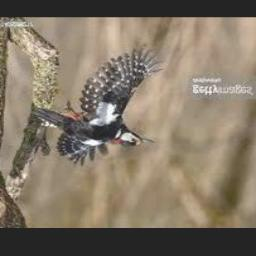Woodpecker: (33, 43, 165, 167)
